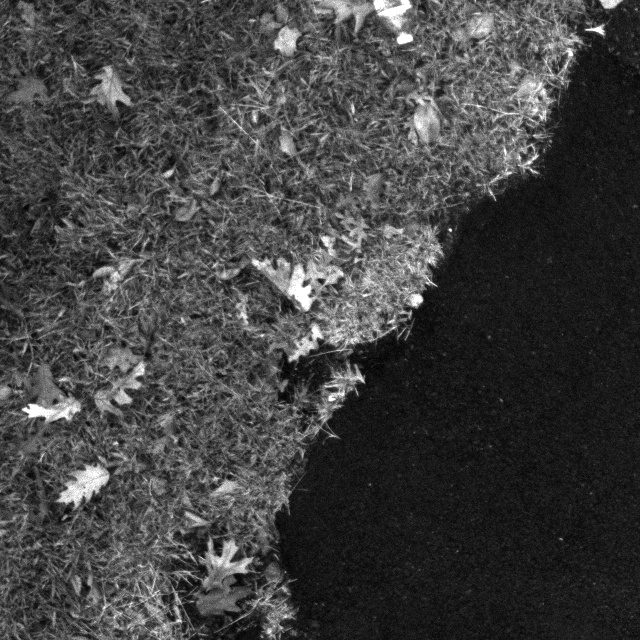bottle: (338, 0, 437, 59)
